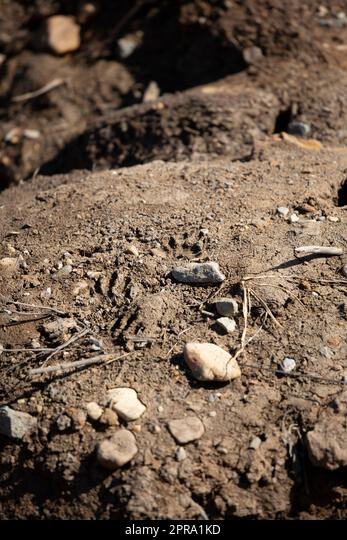raccoon: (81, 255, 168, 375)
